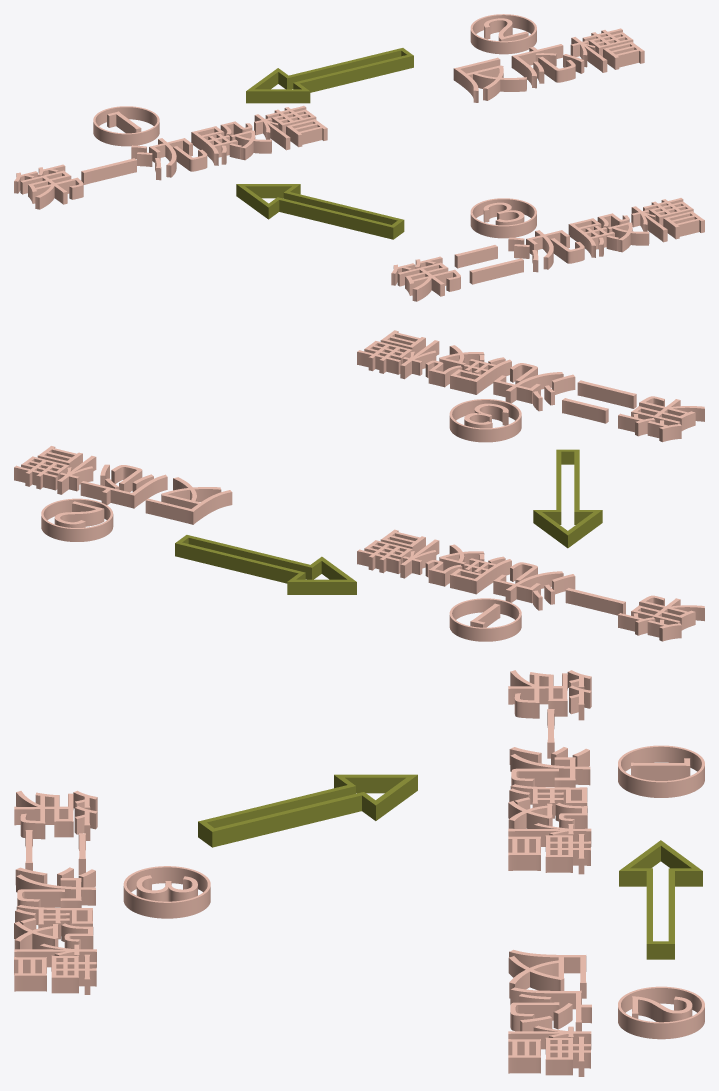
Rendered from textOsui.fbx.
3 views of the same model, one above another, from view 1: azimuth 30°, elevation 25°; view 2: azimuth 150°, elevation 25°; view 3: azimuth 270°, elevation 25° (orthographic). The views are drawn at different scales.
Parts seen in each view (by area): view 1: オブジェクト_52, オブジェクト_1, オブジェクト_4, オブジェクト_13, オブジェクト_34, オブジェクト_15, オブジェクト_2, オブジェクト_32, オブジェクト_24, オブジェクト_44, オブジェクト_5, オブジェクト_30 (+21 smaller); view 2: オブジェクト_52, オブジェクト_1, オブジェクト_4, オブジェクト_13, オブジェクト_32, オブジェクト_2, オブジェクト_15, オブジェクト_34, オブジェクト_5, オブジェクト_24, オブジェクト_44, オブジェクト_29 (+24 smaller); view 3: オブジェクト_1, オブジェクト_52, オブジェクト_13, オブジェクト_32, オブジェクト_2, オブジェクト_4, オブジェクト_15, オブジェクト_34, オブジェクト_49, オブジェクト_10, オブジェクト_29, オブジェクト_19 (+20 smaller).
Boxes of the visible parts, x1=… form: オブジェクト_52: x1=246, y1=48, x2=413, y2=103; オブジェクト_1: x1=236, y1=184, x2=404, y2=239; オブジェクト_4: x1=453, y1=57, x2=526, y2=102; オブジェクト_13: x1=93, y1=106, x2=159, y2=146; オブジェクト_34: x1=397, y1=262, x2=460, y2=301; オブジェクト_15: x1=20, y1=170, x2=83, y2=209; オブジェクト_2: x1=470, y1=14, x2=536, y2=54; オブジェクト_32: x1=470, y1=198, x2=536, y2=238; オブジェクト_24: x1=191, y1=126, x2=237, y2=165; オブジェクト_44: x1=568, y1=218, x2=614, y2=257; オブジェクト_5: x1=511, y1=44, x2=563, y2=88; オブジェクト_30: x1=286, y1=119, x2=327, y2=147; オブジェクト_52: x1=175, y1=535, x2=356, y2=594; オブジェクト_1: x1=533, y1=449, x2=602, y2=548; オブジェクト_4: x1=145, y1=477, x2=232, y2=524; オブジェクト_13: x1=449, y1=598, x2=521, y2=641; オブジェクト_32: x1=449, y1=399, x2=521, y2=442; オブジェクト_2: x1=41, y1=498, x2=113, y2=541; オブジェクト_15: x1=631, y1=595, x2=704, y2=630; オブジェクト_34: x1=631, y1=396, x2=704, y2=430; オブジェクト_5: x1=80, y1=474, x2=167, y2=508; オブジェクト_24: x1=450, y1=558, x2=511, y2=594; オブジェクト_44: x1=450, y1=359, x2=511, y2=394; オブジェクト_29: x1=357, y1=540, x2=412, y2=573; オブジェクト_1: x1=198, y1=774, x2=417, y2=847; オブジェクト_52: x1=619, y1=840, x2=702, y2=959; オブジェクト_13: x1=618, y1=745, x2=704, y2=797; オブジェクト_32: x1=123, y1=866, x2=210, y2=918; オブジェクト_2: x1=618, y1=986, x2=704, y2=1039; オブジェクト_4: x1=508, y1=949, x2=586, y2=998; オブジェクト_15: x1=508, y1=670, x2=567, y2=718; オブジェクト_34: x1=14, y1=791, x2=73, y2=839; オブジェクト_49: x1=51, y1=954, x2=96, y2=994; オブジェクト_10: x1=545, y1=1036, x2=590, y2=1076; オブジェクト_29: x1=545, y1=834, x2=590, y2=874; オブジェクト_19: x1=510, y1=754, x2=590, y2=787.
Bounding box in the file's own units: 26587 × 19850 × 500.
